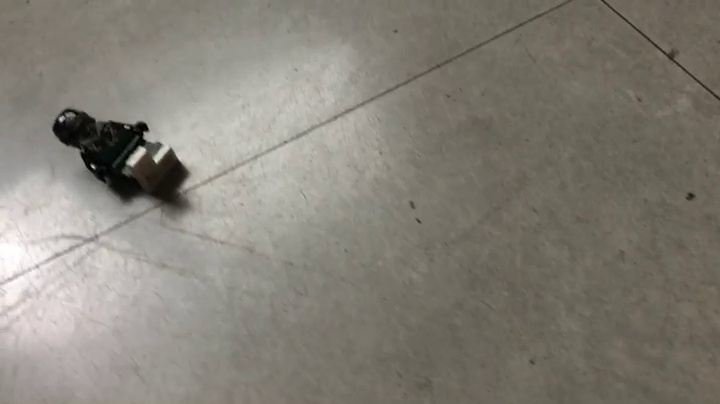people: (51, 106, 189, 202)
